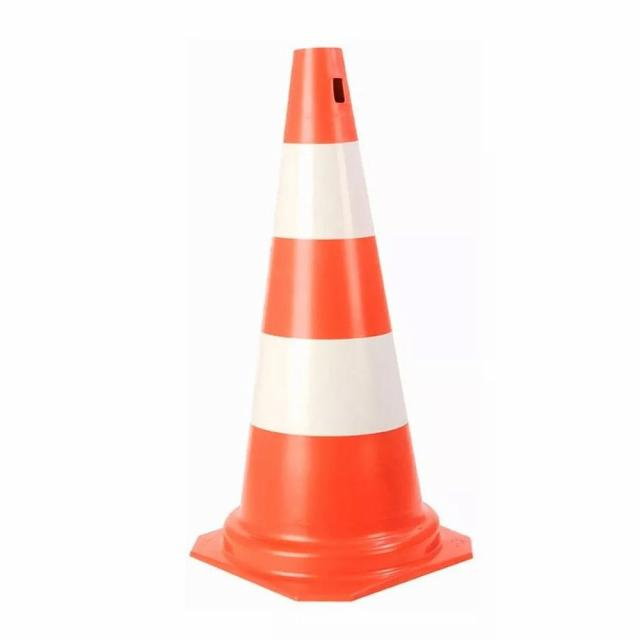cone: (189, 58, 471, 608)
